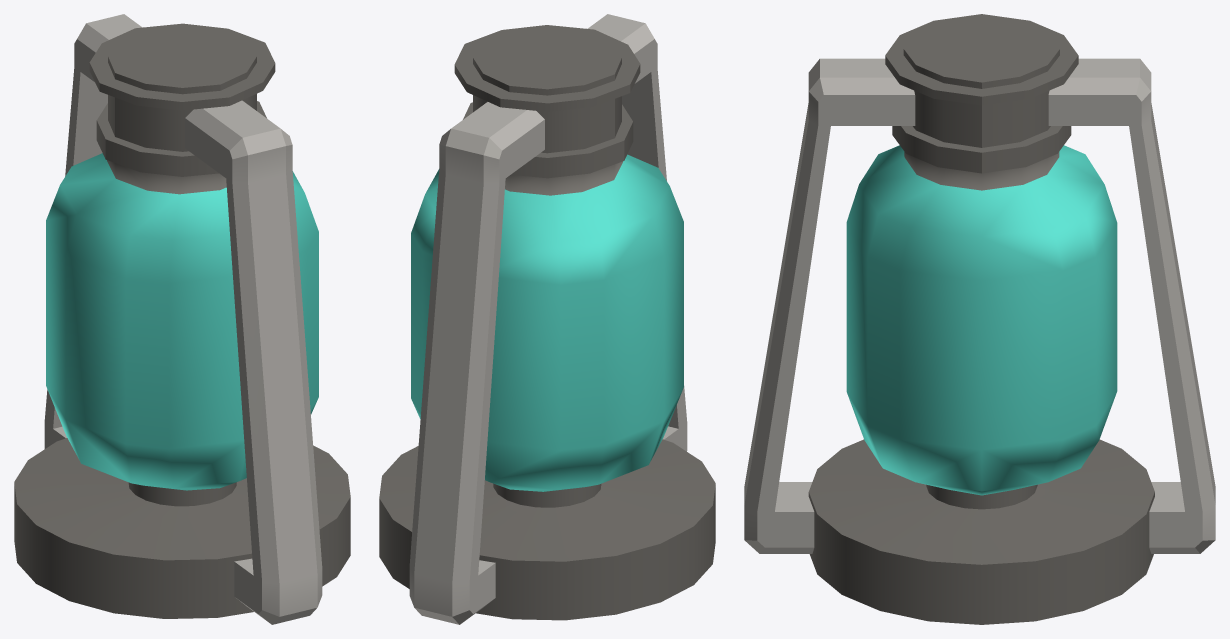
The model's file is Oil_Lamp.fbx.
3 views of the same model, side by side, from view 1: azimuth 30°, elevation 25°; view 2: azimuth 150°, elevation 25°; view 3: azimuth 270°, elevation 25° (orthographic). The views are drawn at different scales.
Visible parts, largest first — view 1: Lamp; view 2: Lamp; view 3: Lamp.
Boxes of the visible parts, x1,y1,x2,y2 form: Lamp: [14, 14, 350, 624]; Lamp: [379, 14, 715, 624]; Lamp: [744, 14, 1215, 624].
Size of the model in its own units: 22.84 by 36.61 by 31.1.
